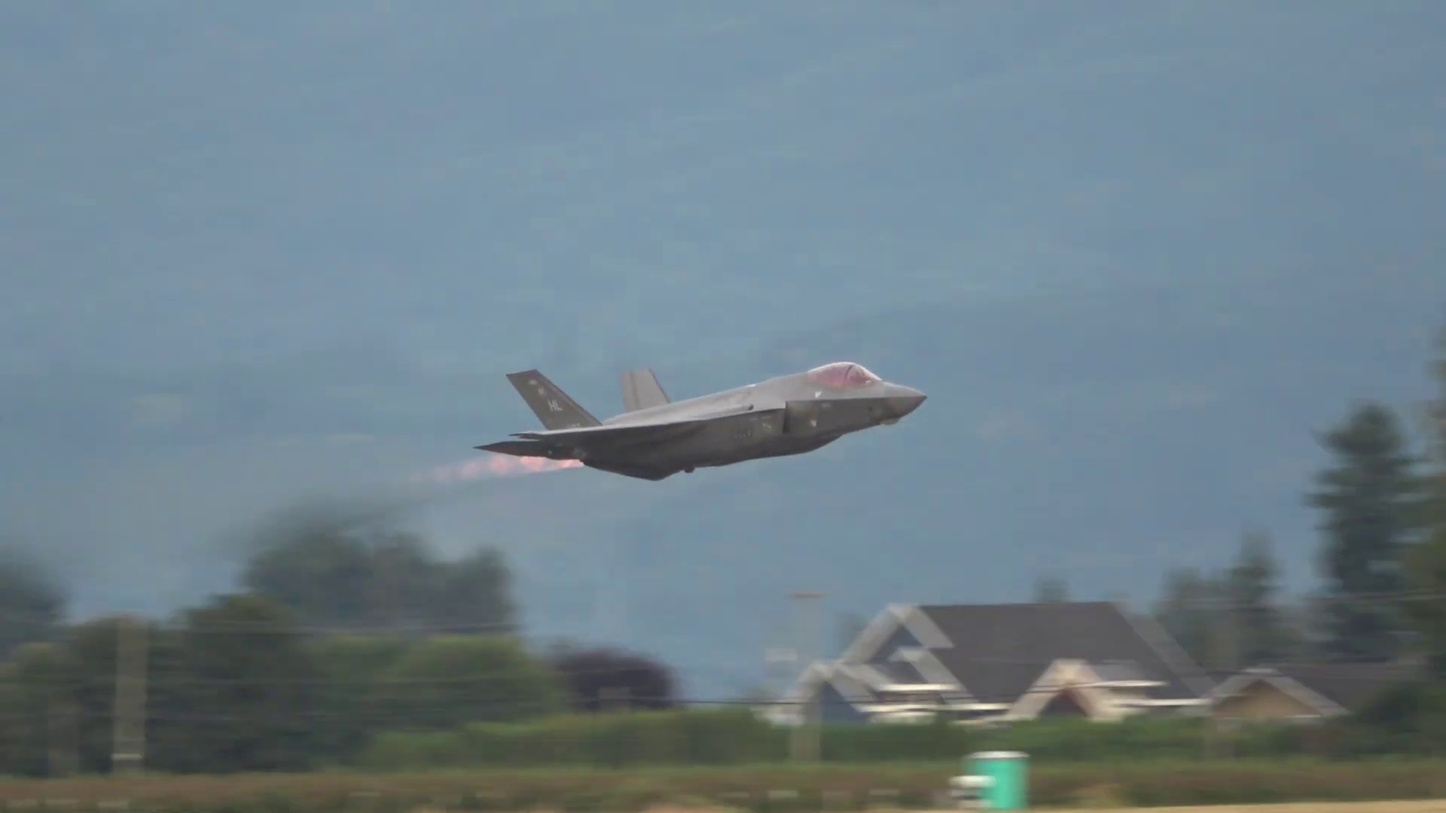F35: (459, 347, 934, 488)
